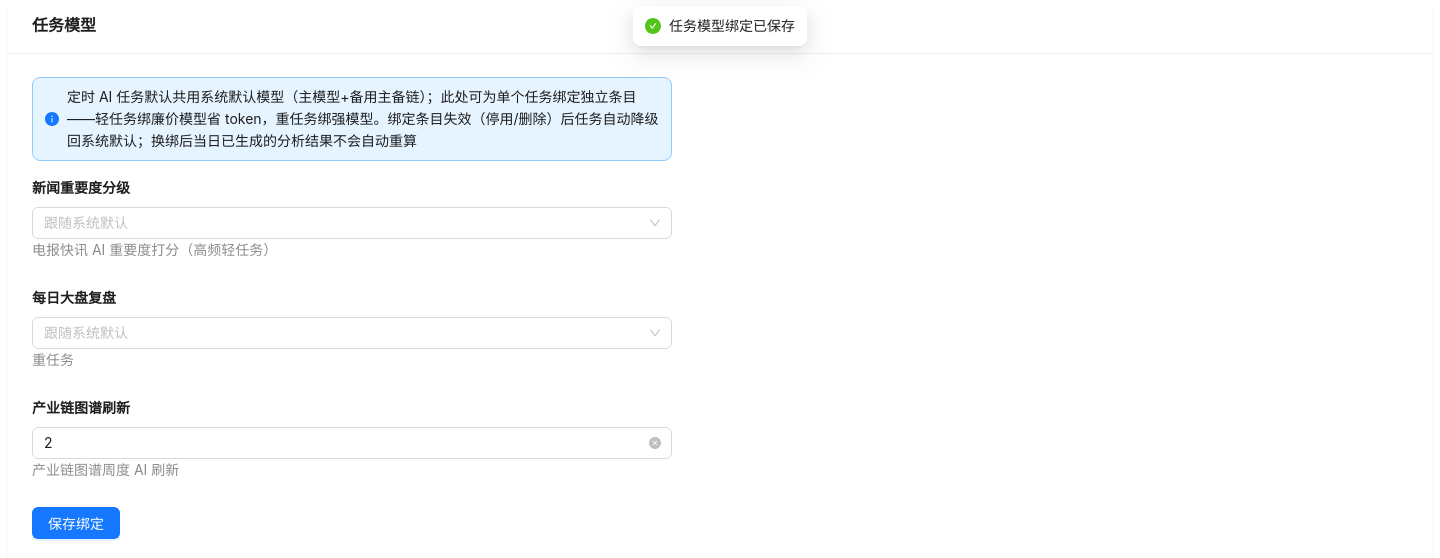
TaskBindingTab › 保存失败提示错误信息
Click the button "保存绑定" at (76, 523), box [32,507,120,539]
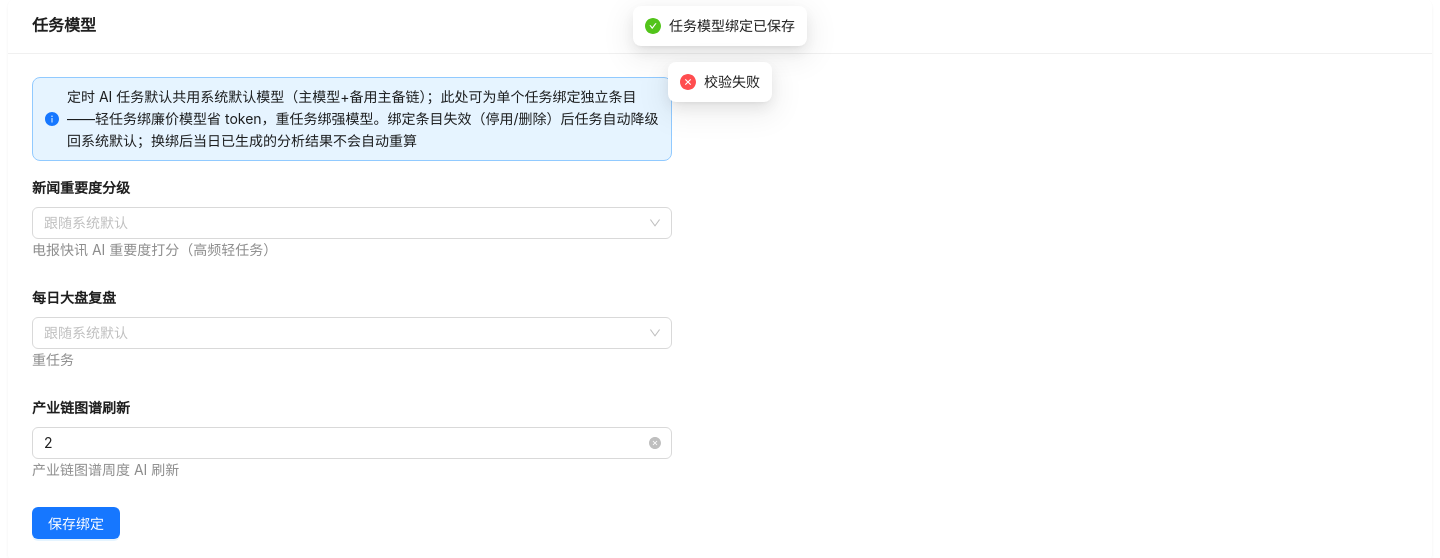
Check: the text "校验失败" is shown, box [704,71,760,93]
